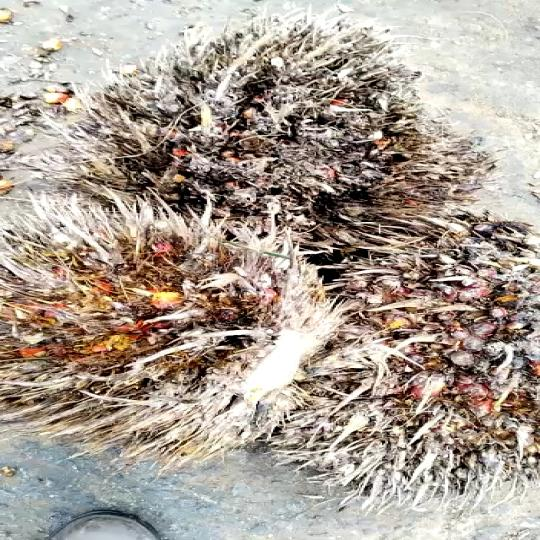terlalu masak: (0, 195, 353, 463), (264, 208, 540, 498), (65, 20, 439, 223)
